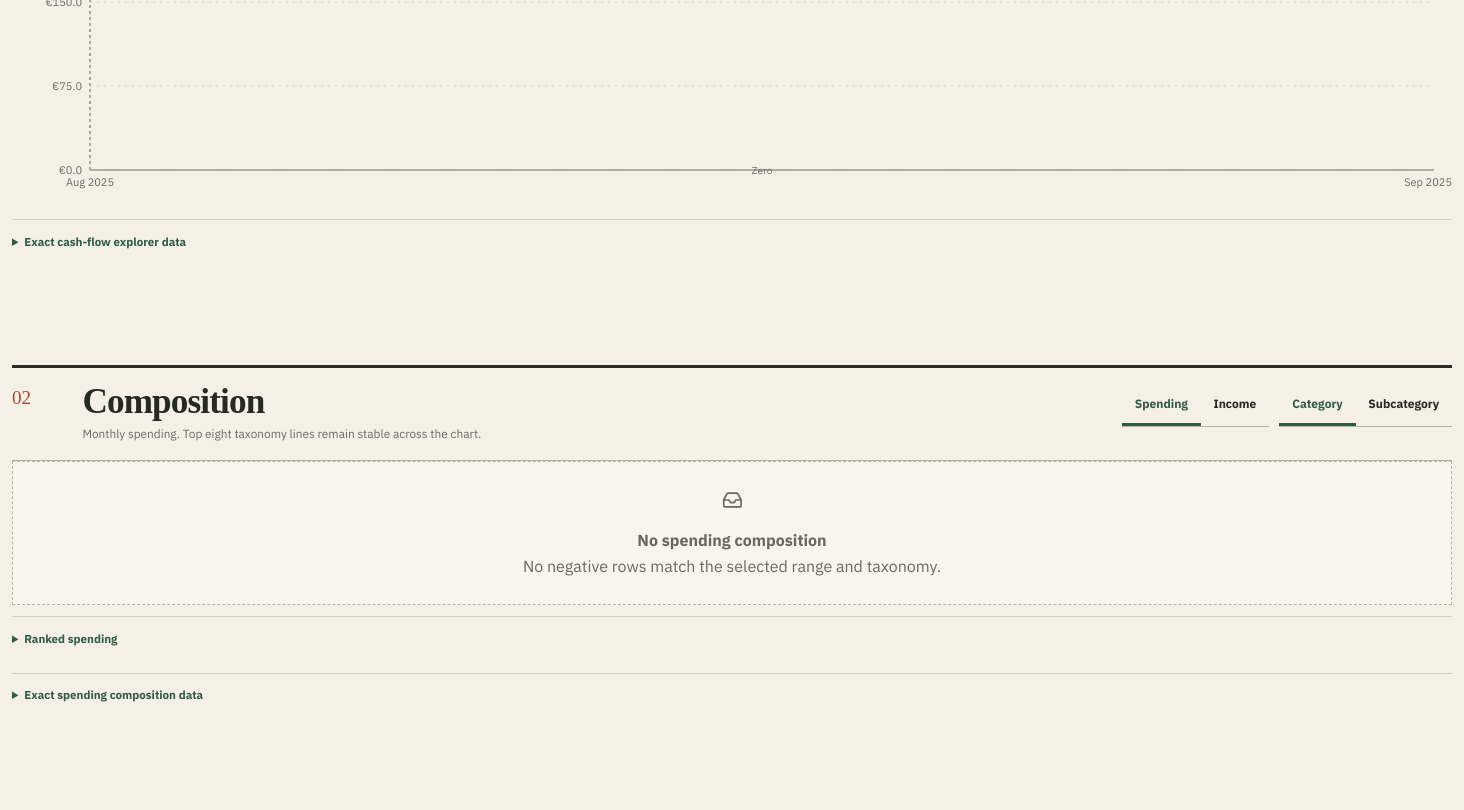
Scenario: OverviewPage analytical dashboard › shows the explanatory empty model while retaining zero-safe charts and tables
(page scrolled)
Click the button "Income" at (1235, 405), box top-left (1201, 384), bottom-right (1269, 426)
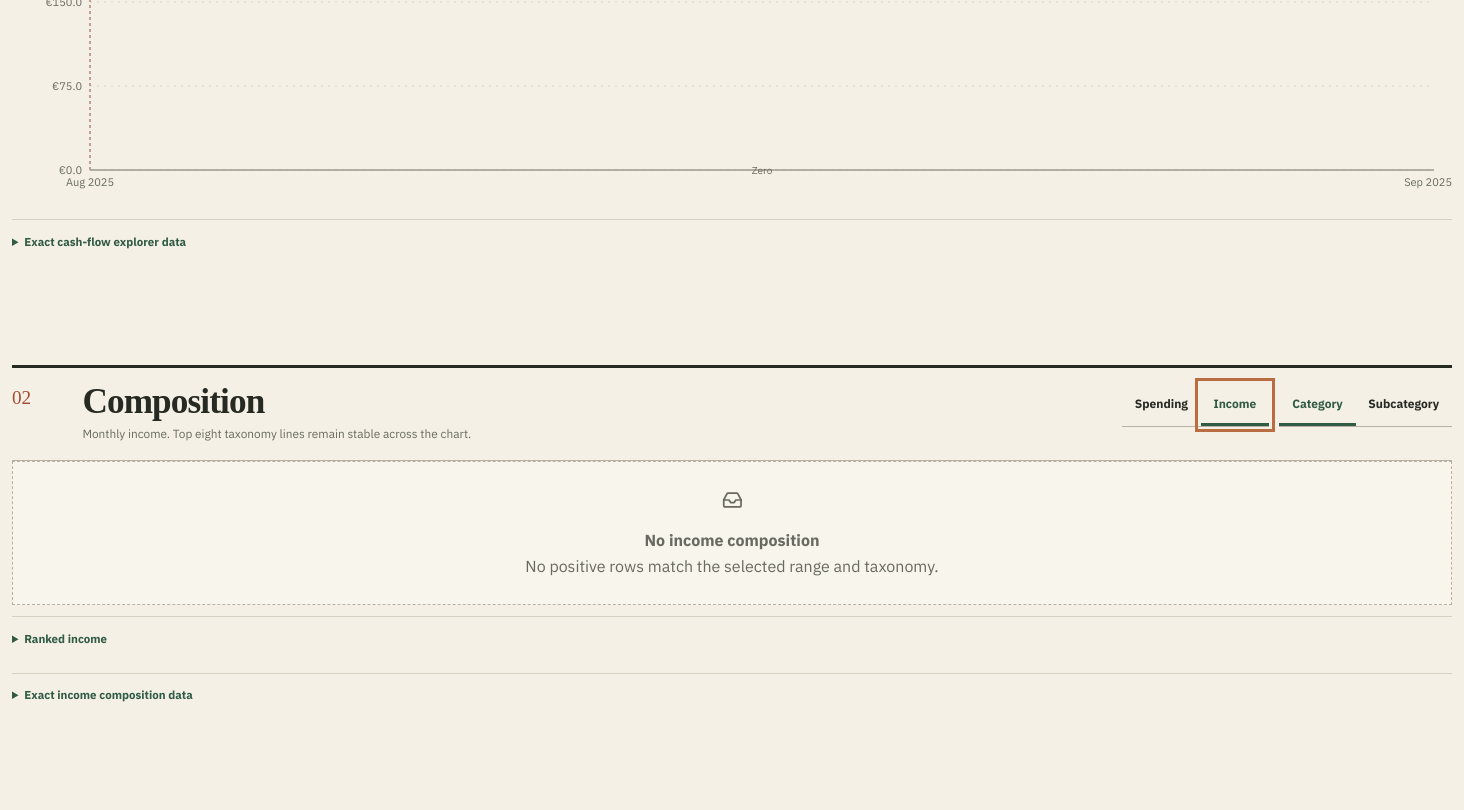
Check: the text "No income composition" is shown, box top-left (644, 530), bottom-right (820, 550)
